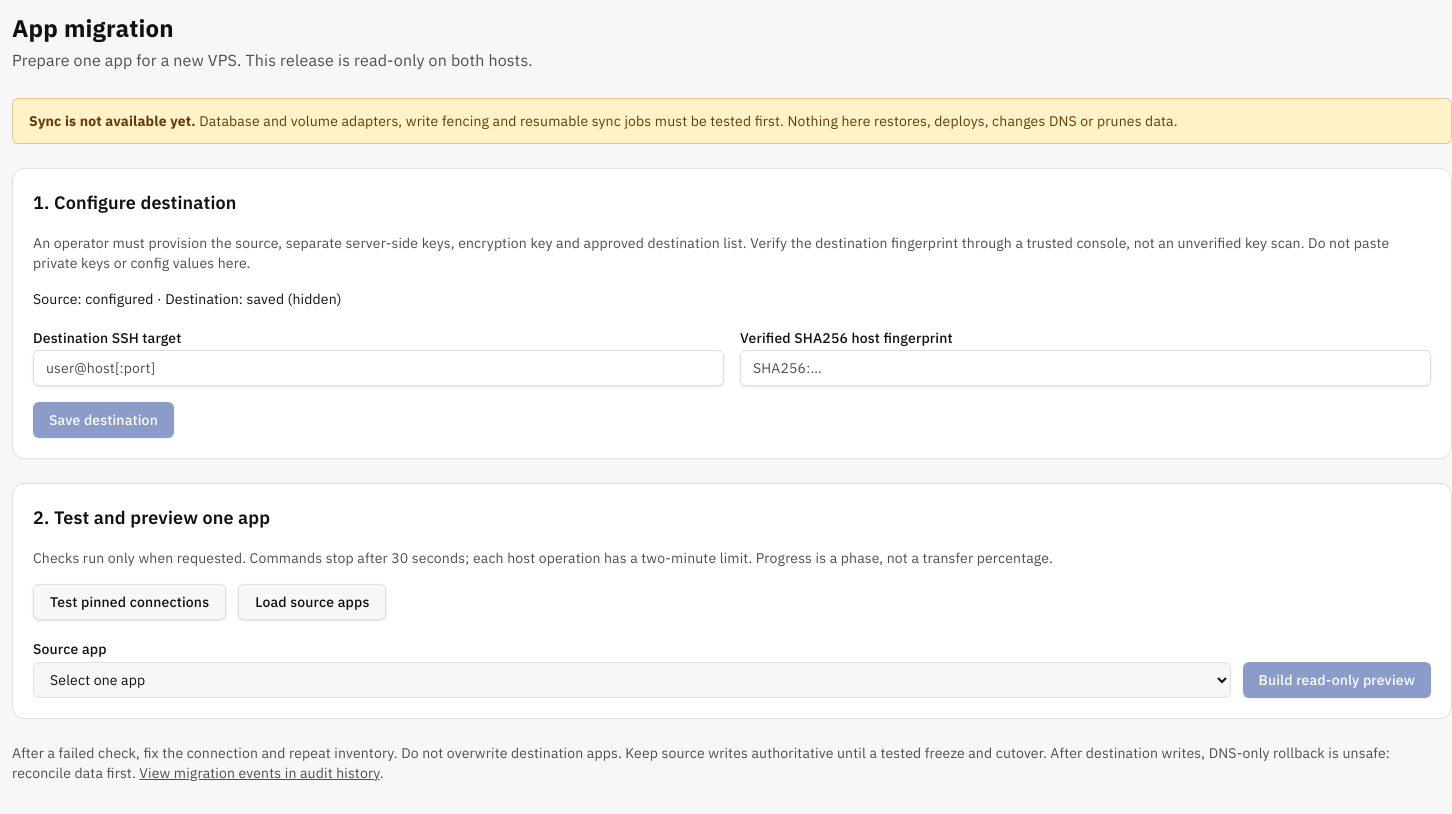
Test case: migration planning UI › cancels a read-only request and never renders raw errors
Expected: the text "Source: configured · Destination: saved (hidden)" is shown, [33,290,342,308]
Click the button "Test pinned connections" at (130, 602), box [33,584,226,620]
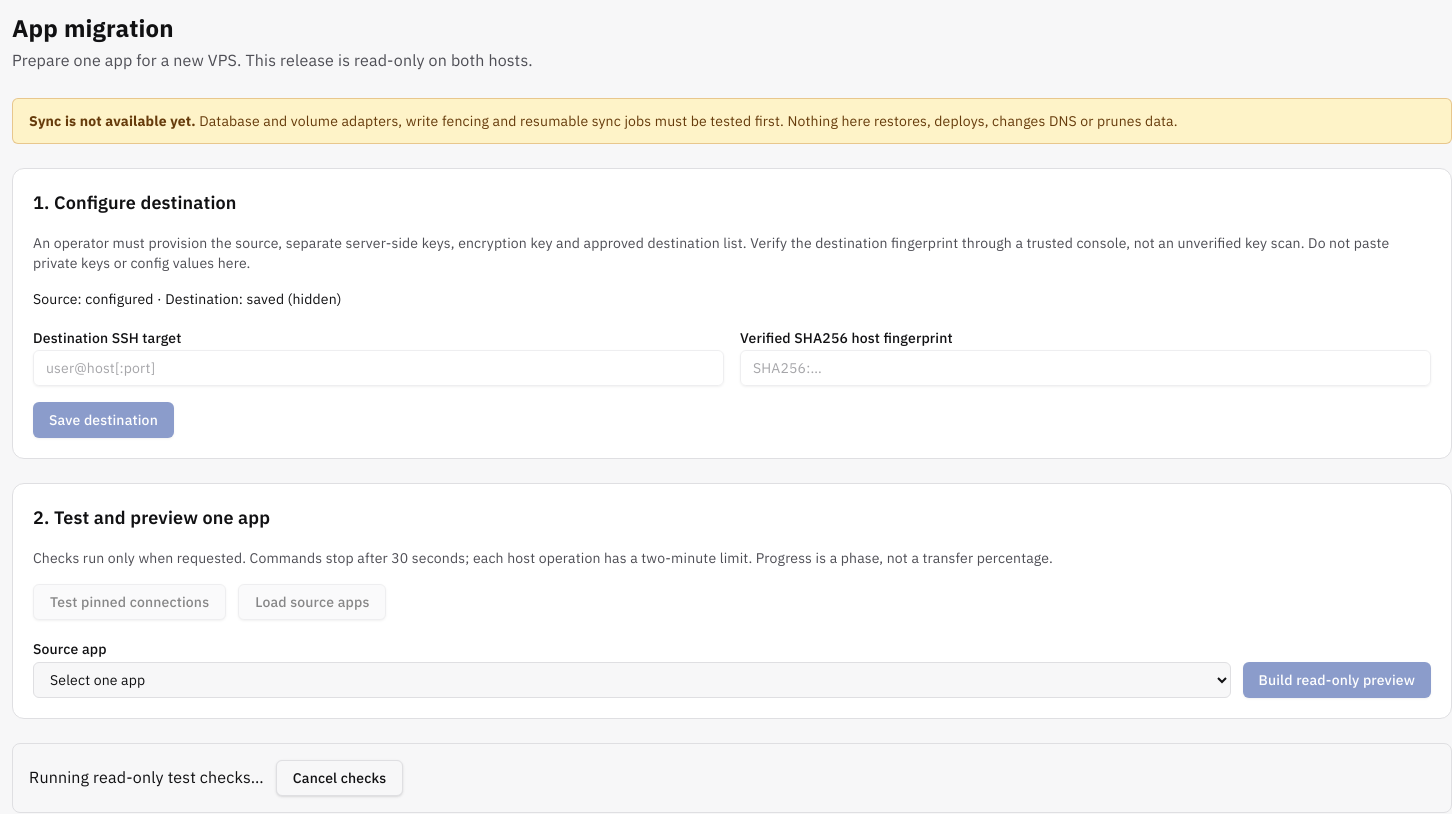
Click the button "Cancel checks" at (340, 778), box [276,760,403,796]
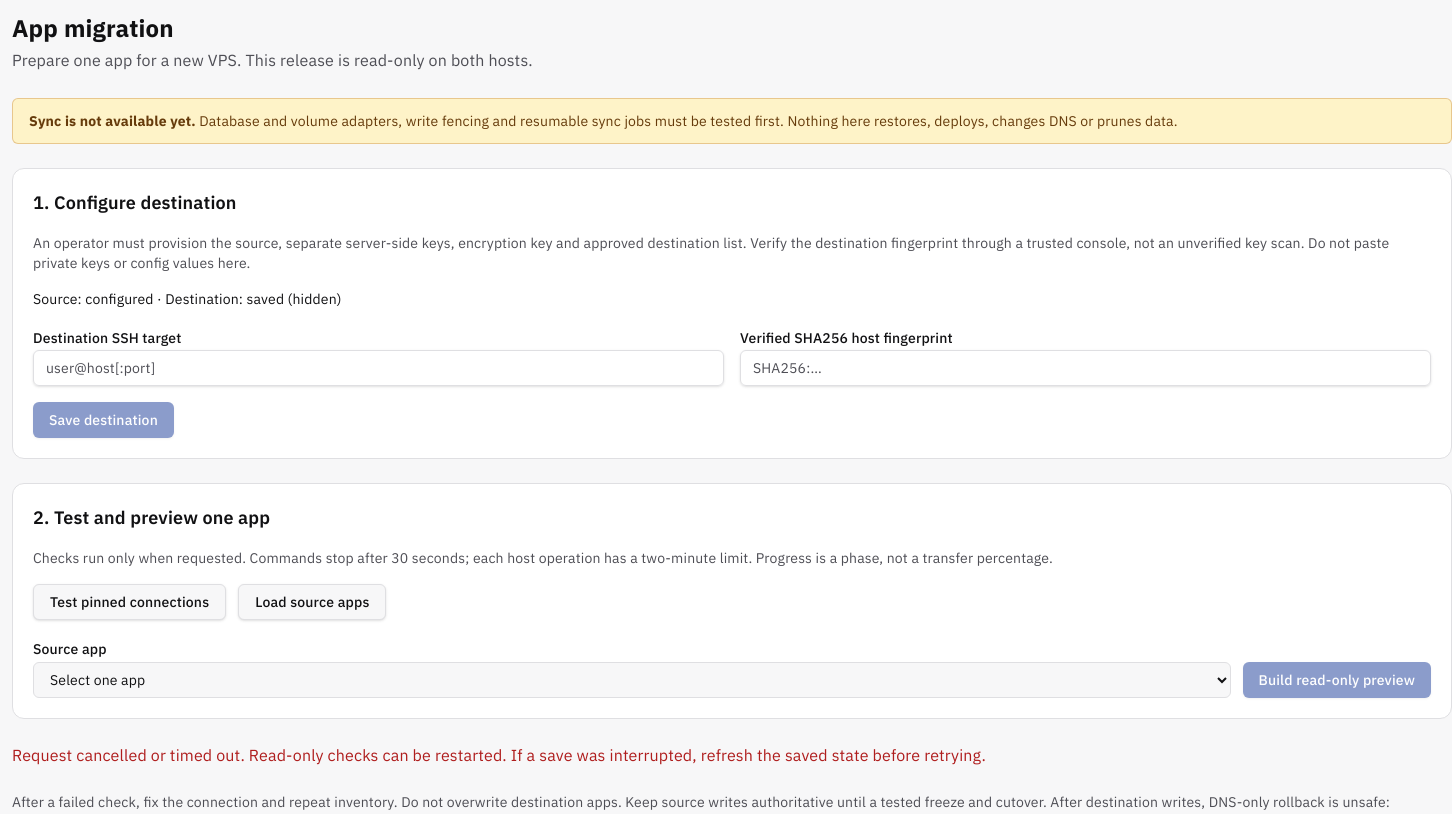
Result: the message shows "Request cancelled" at [12,745,986,765]
